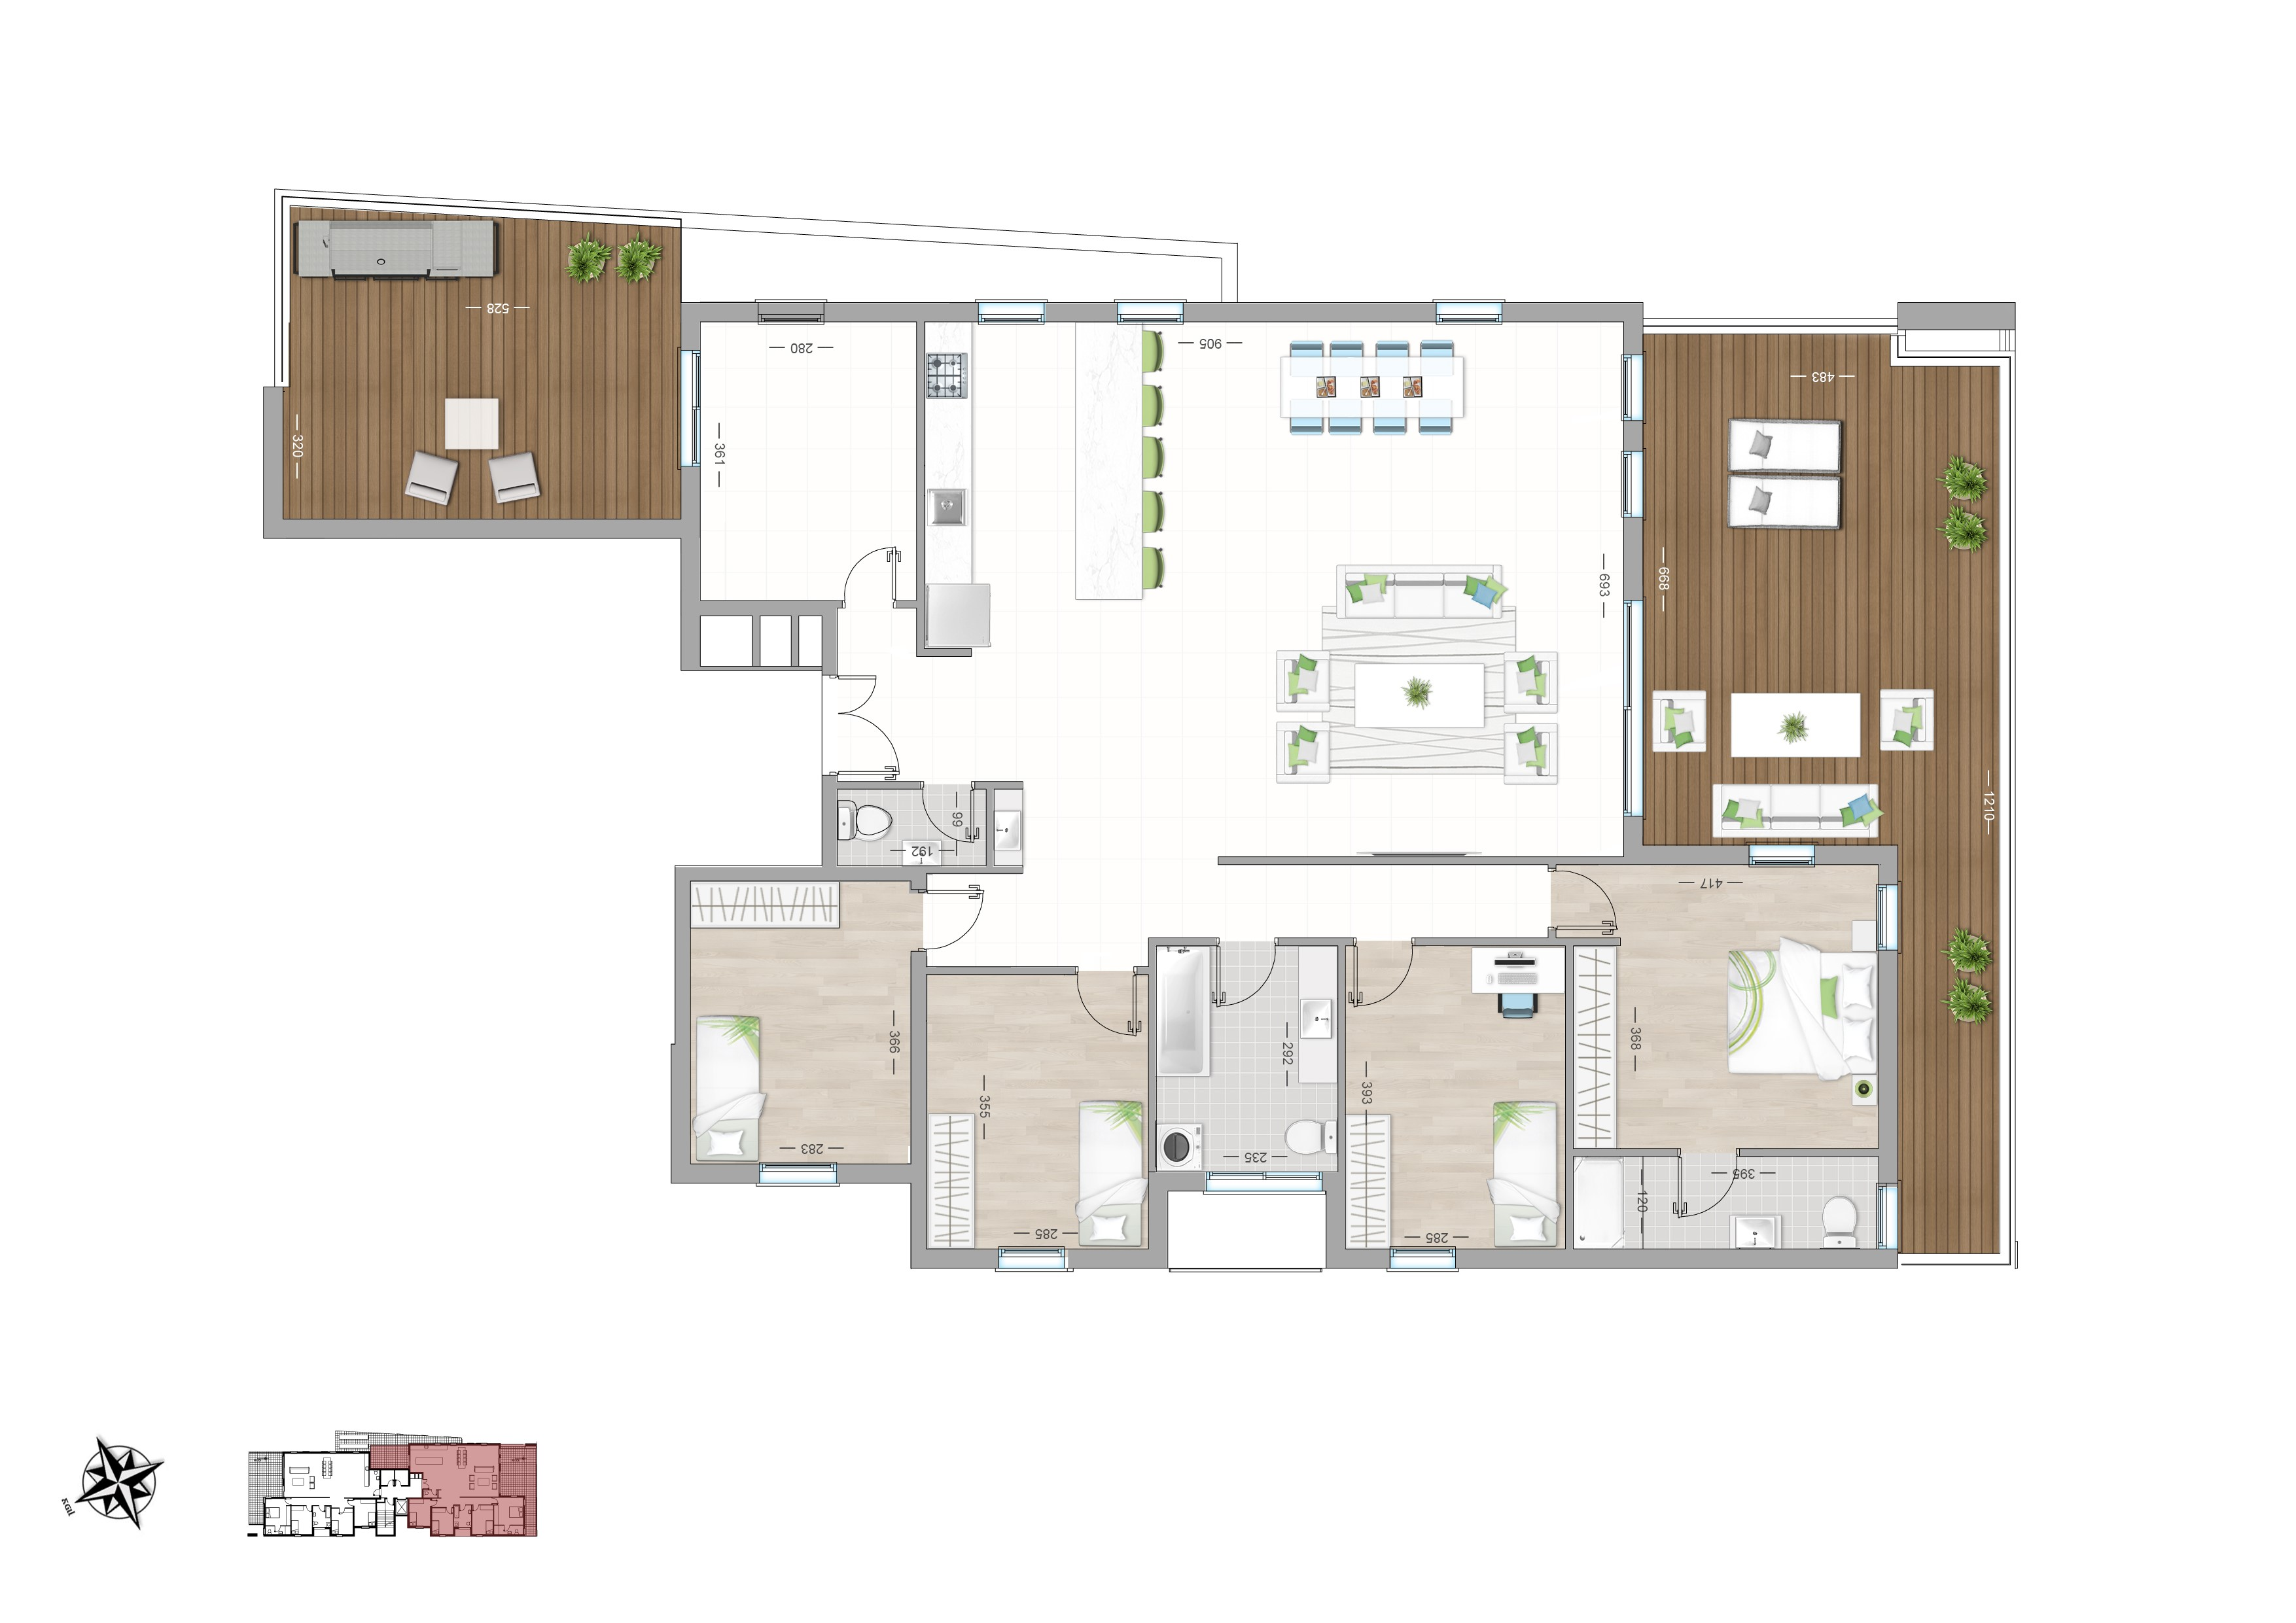door: (840, 667, 928, 776), (1667, 1159, 1748, 1221), (1560, 868, 1630, 936), (1210, 947, 1282, 1012), (1347, 947, 1419, 1012), (933, 885, 998, 952), (1075, 980, 1138, 1047), (915, 790, 986, 850), (834, 539, 905, 599)
wall: (264, 518, 701, 537), (910, 952, 928, 1268), (675, 864, 690, 1184), (1876, 950, 1897, 1182), (1184, 302, 1435, 321), (1217, 855, 1750, 864), (675, 864, 912, 882), (682, 469, 701, 671), (824, 302, 978, 323), (682, 601, 836, 615), (1066, 1249, 1166, 1266), (1151, 1172, 1168, 1266), (680, 302, 759, 323), (836, 1165, 926, 1182), (912, 1249, 998, 1266), (1149, 1172, 1207, 1191)
window: (1621, 601, 1644, 815), (1205, 1170, 1321, 1196), (680, 350, 703, 467), (759, 1161, 836, 1187), (1873, 885, 1901, 954), (1876, 1182, 1904, 1249), (1391, 1245, 1456, 1272), (1620, 355, 1644, 422), (1621, 451, 1646, 516), (1000, 1247, 1065, 1272), (1748, 843, 1813, 866), (977, 302, 1045, 323), (1117, 302, 1186, 323), (1439, 306, 1507, 327)
